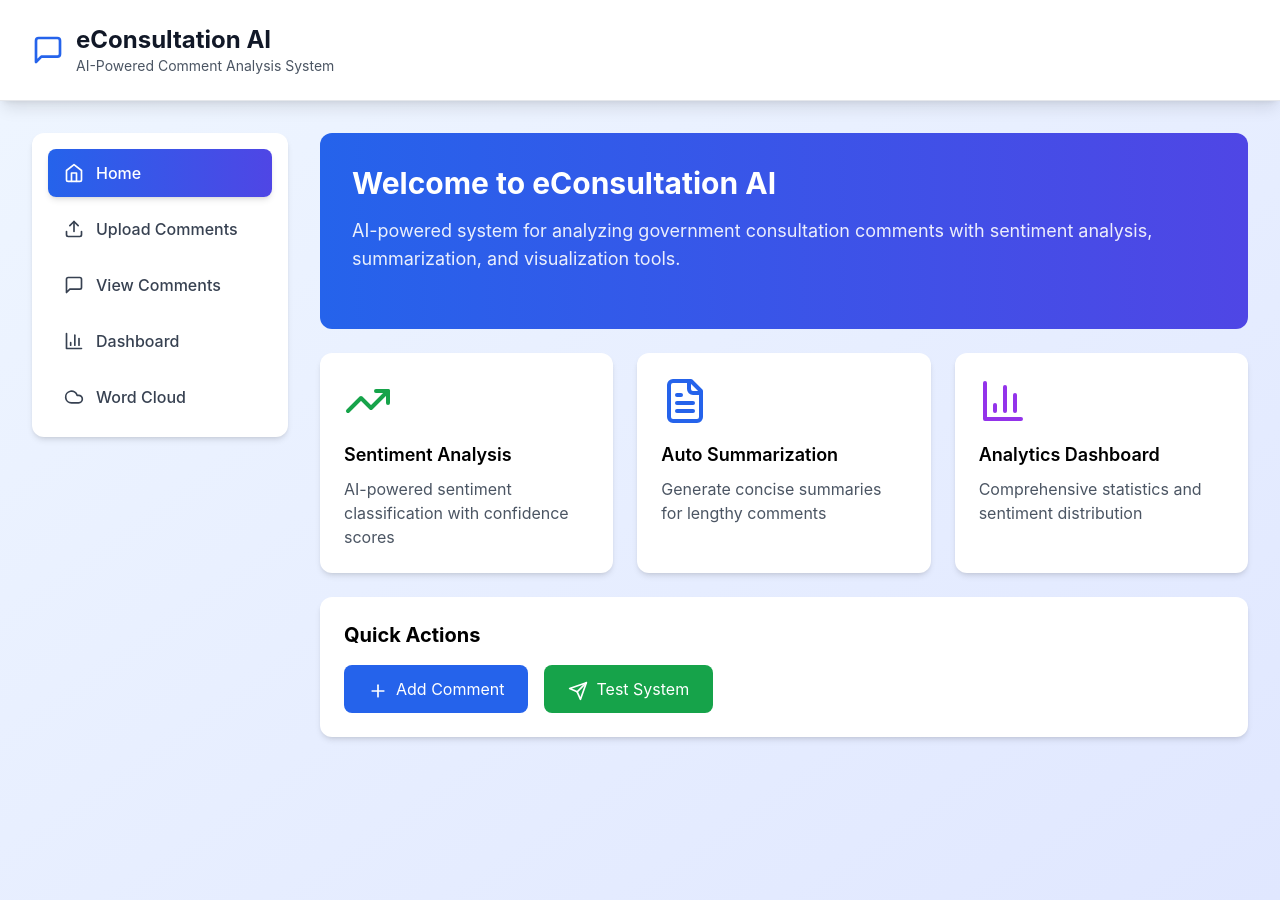
Scenario: Core Integration Validation › Requirement 4.3: Word Cloud Functionality Preserved › should generate word clouds successfully
Navigate to word cloud
Click the button "Word Cloud".
click(160, 397)  # box [48, 373, 272, 421]
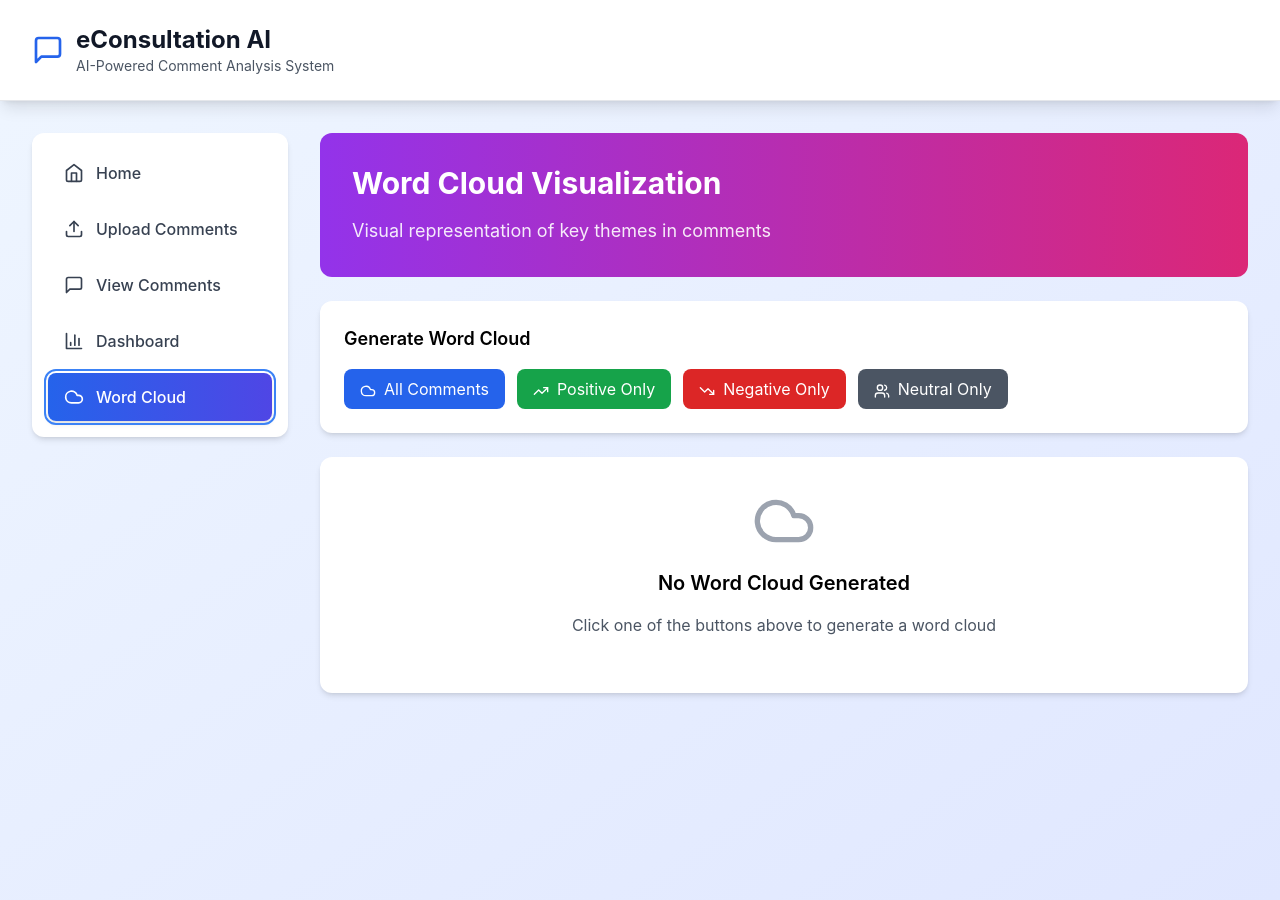
Generate word cloud
Click the button "All Comments".
click(424, 389)  # box [344, 369, 505, 409]
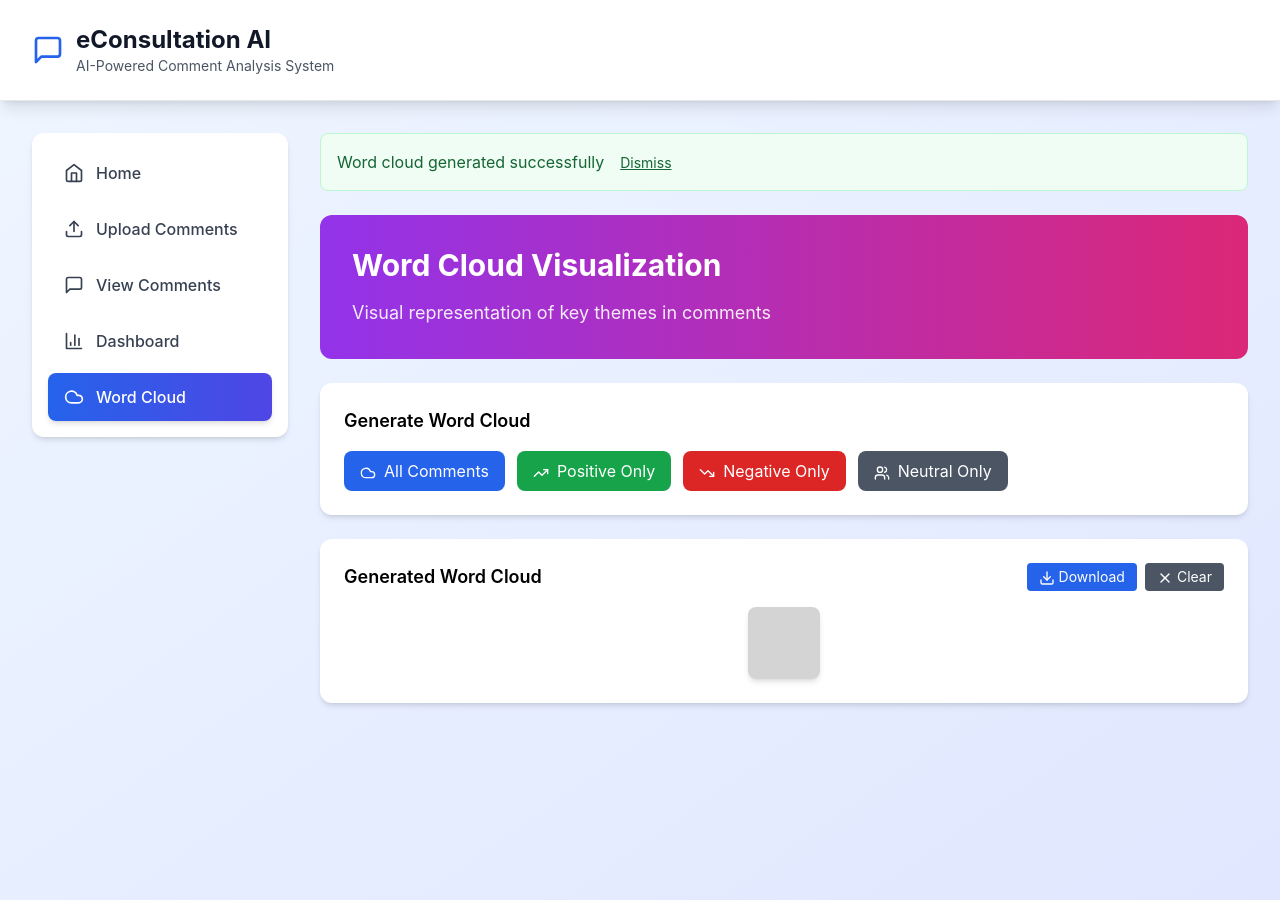
Now the text "Word cloud generated successfully" is shown, box [337, 152, 604, 172]
